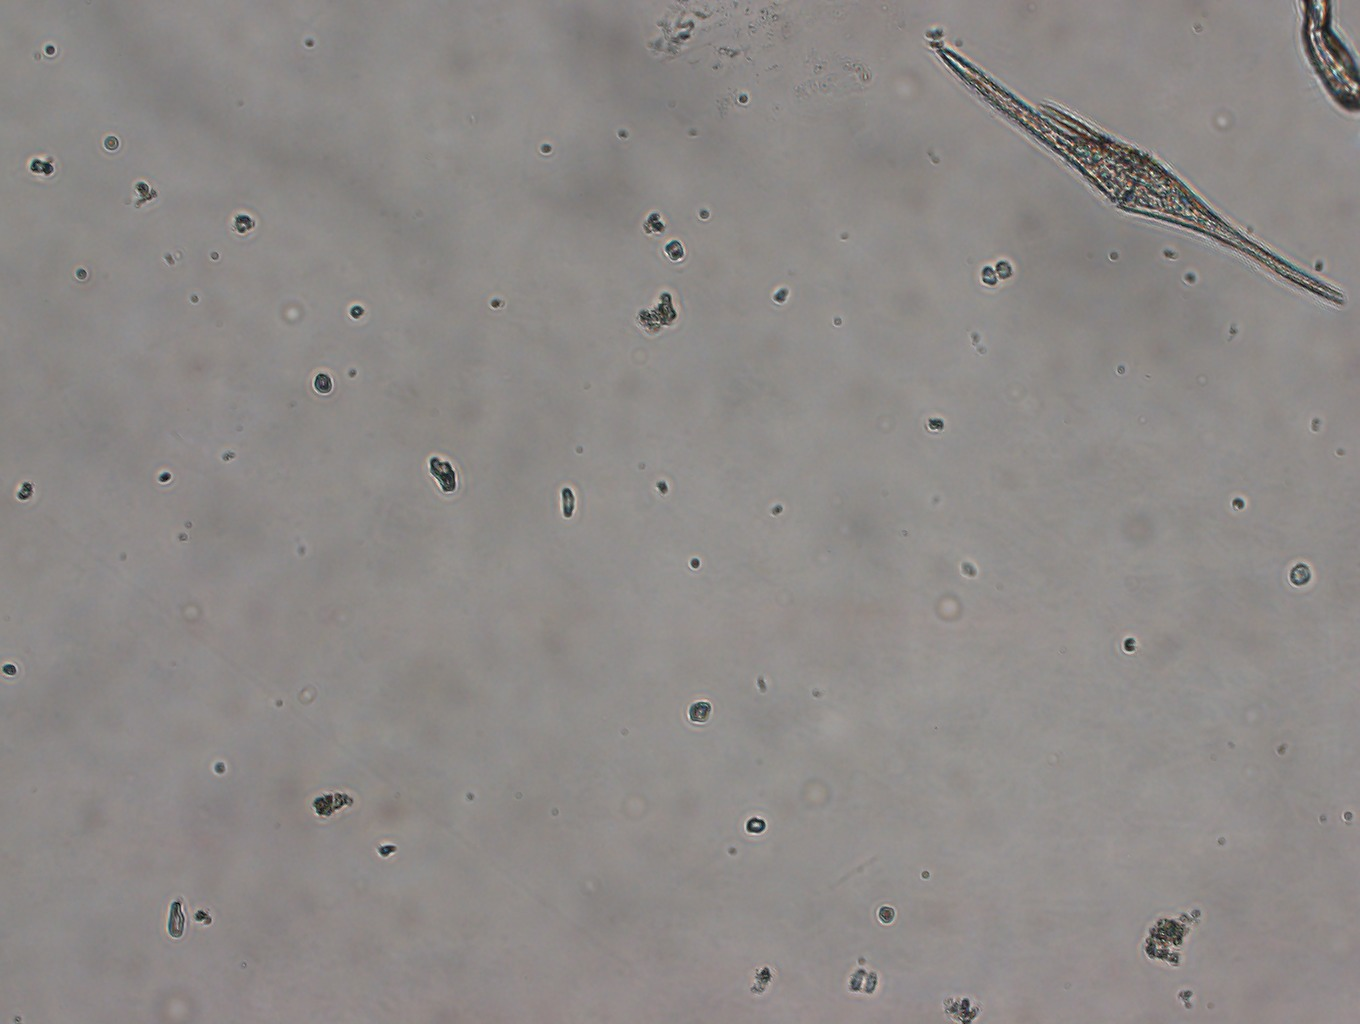ceratium furca: (933, 40, 1352, 313)
